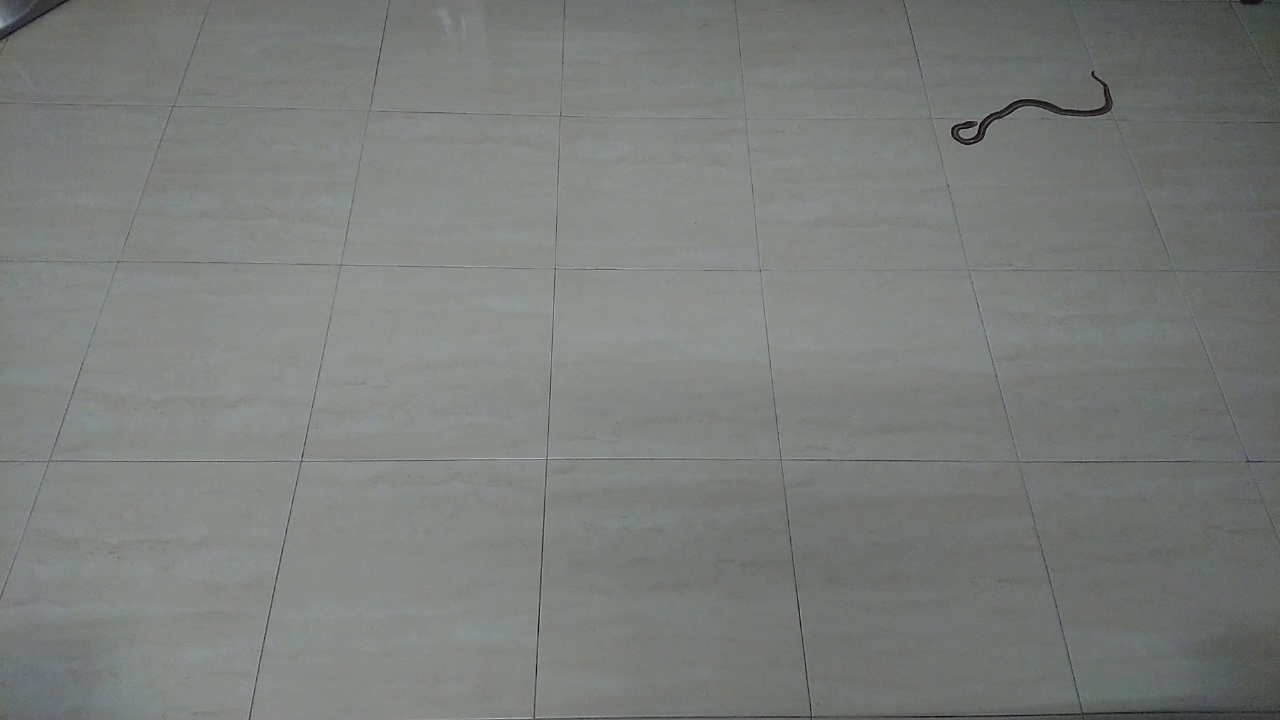snake: (931, 59, 1124, 159)
